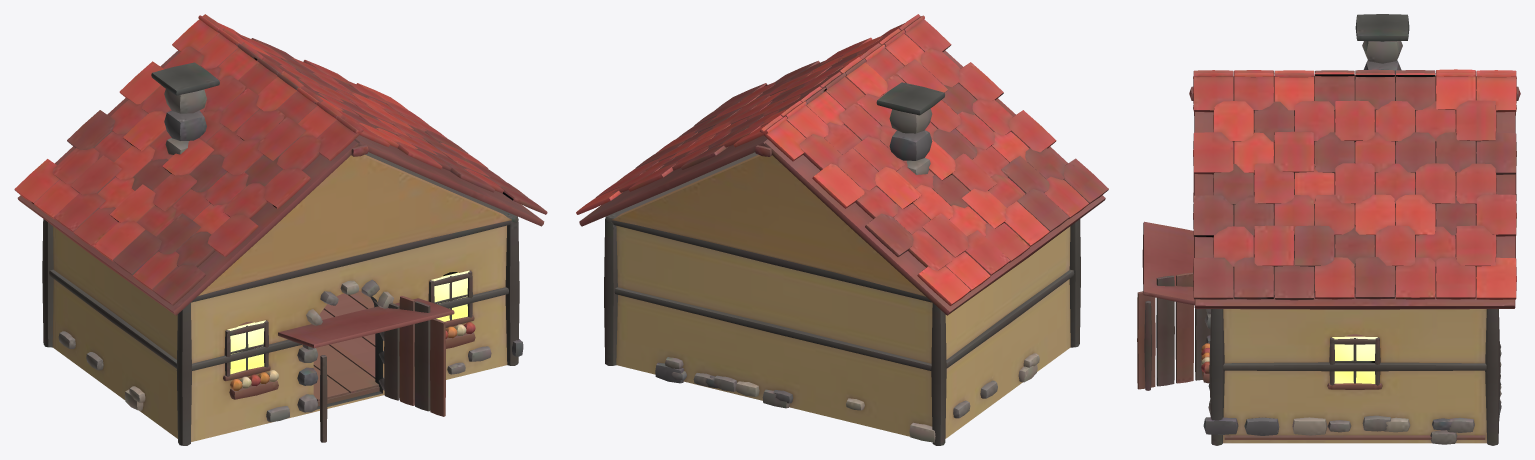
The model's file is house_b.glb.
The picture shows the model from 3 angles, left to right: view 1: azimuth 30°, elevation 25°; view 2: azimuth 150°, elevation 25°; view 3: azimuth 270°, elevation 25°; orthographic projection. The views are drawn at different scales.
Parts seen in each view (by area): view 1: main, glow; view 2: main; view 3: main, glow.
Part boxes in pixels (x1=…): main: x1=14, y1=14, x2=547, y2=445; glow: x1=227, y1=270, x2=469, y2=374; main: x1=576, y1=14, x2=1108, y2=445; main: x1=1137, y1=14, x2=1520, y2=445; glow: x1=1332, y1=336, x2=1377, y2=383.
Size of the model in its own units: 10.35 by 7.65 by 8.91.
2 materials, 1 textured.
